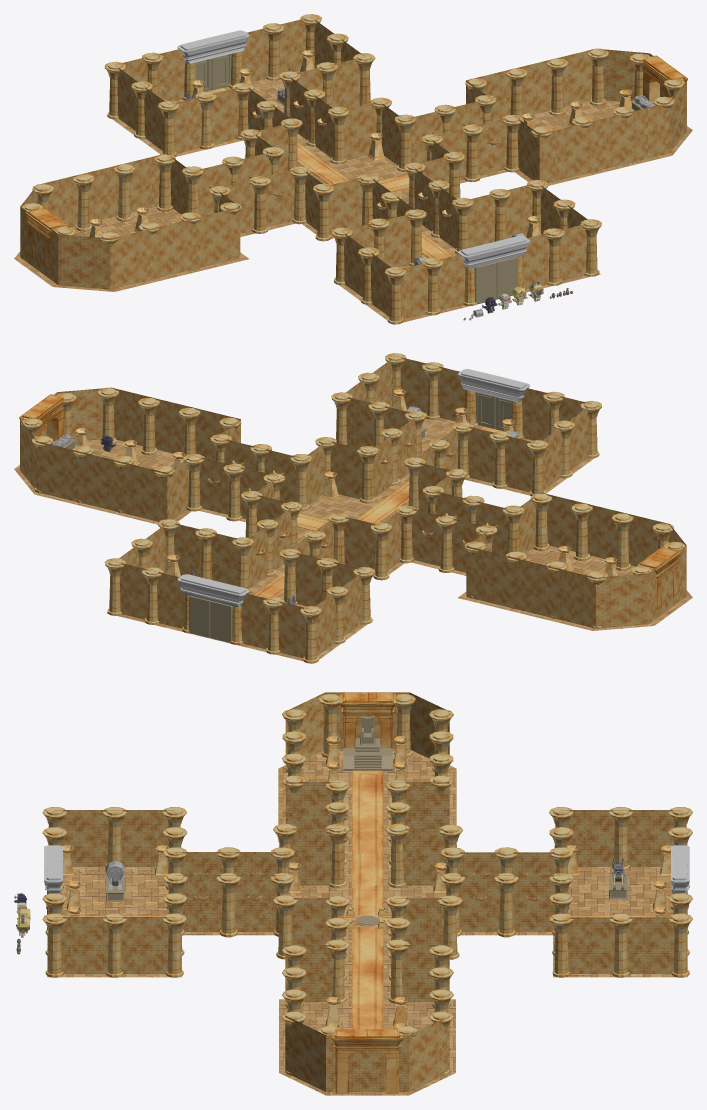
File: characternelementwEnvironment.fbx
The picture shows the model from 3 angles, top to bottom: view 1: azimuth 30°, elevation 25°; view 2: azimuth 150°, elevation 25°; view 3: azimuth 270°, elevation 25°; orthographic projection. The views are drawn at different scales.
Visible parts, largest first — view 1: polySurface67, mainplatform.002, mainplatform.004, Cube.073, Cube.075, Cube.002, Cube.078, Cube.060, Cylinder.177, Cylinder.222, Cylinder.120, Cylinder.176 (+36 smaller); view 2: polySurface67, mainplatform.002, mainplatform.004, Cube.075, Cube.073, Cube.002, Cube.078, Cube.114, Cube.115, Cylinder.162, Cylinder.179, Cylinder.132 (+37 smaller); view 3: polySurface67, mainplatform.002, mainplatform.004, Cube.002, Cube.078, Cylinder.226, Cylinder.140, Cylinder.124, Cylinder.125, Cylinder.135, Cylinder.131, Cylinder.126 (+14 smaller).
Boxes of the visible parts, box(x1,y1,x2,y2) form: polySurface67: box(20, 17, 686, 318); mainplatform.002: box(14, 70, 692, 324); mainplatform.004: box(206, 87, 453, 258); Cube.073: box(177, 30, 249, 63); Cube.075: box(458, 235, 529, 268); Cube.002: box(642, 55, 687, 105); Cube.078: box(25, 207, 69, 270); Cube.060: box(474, 262, 496, 303); Cylinder.177: box(113, 164, 135, 221); Cylinder.222: box(312, 183, 334, 241); Cylinder.120: box(384, 267, 406, 324); Cylinder.176: box(72, 174, 94, 231); polySurface67: box(20, 356, 686, 658); mainplatform.002: box(14, 418, 692, 663); mainplatform.004: box(253, 426, 502, 598); Cube.075: box(458, 369, 529, 402); Cube.073: box(177, 574, 249, 607); Cube.002: box(19, 394, 64, 441); Cube.078: box(636, 547, 681, 609); Cube.114: box(210, 601, 232, 642); Cube.115: box(189, 595, 210, 637); Cylinder.162: box(223, 463, 244, 521); Cylinder.179: box(611, 513, 633, 570); Cylinder.132: box(300, 606, 321, 663); polySurface67: box(54, 692, 680, 1091); mainplatform.002: box(47, 749, 687, 1095); mainplatform.004: box(65, 770, 669, 1029); Cube.002: box(331, 1029, 403, 1093); Cube.078: box(339, 692, 396, 748); Cylinder.226: box(494, 873, 518, 937); Cylinder.140: box(216, 873, 240, 937); Cylinder.124: box(162, 913, 186, 977); Cylinder.125: box(42, 913, 66, 977); Cylinder.135: box(668, 913, 692, 977); Cylinder.131: box(549, 913, 573, 977); Cylinder.126: box(102, 913, 126, 977).
Size of the model in its own units: 146 by 11.45 by 120.
